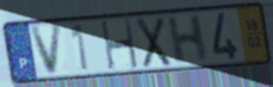1: (69, 23, 91, 73)
4: (211, 11, 240, 63)
H: (166, 13, 209, 67), (98, 17, 140, 72)
V: (29, 22, 64, 78)
X: (135, 15, 173, 70)
